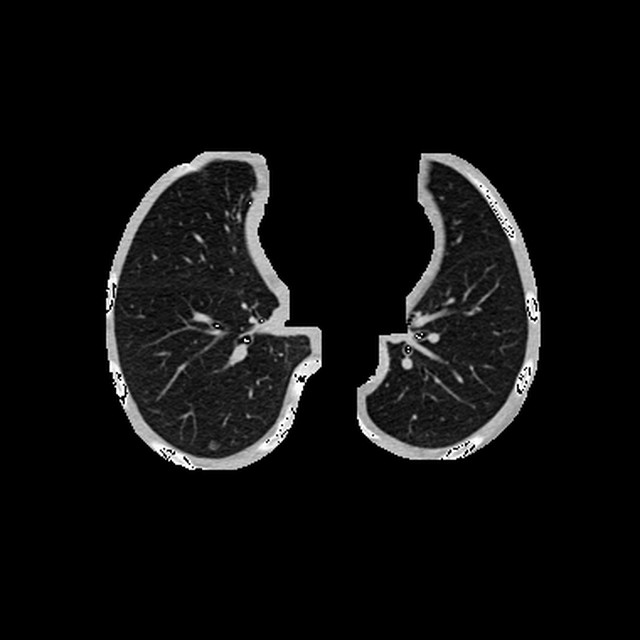PN: (209, 443, 216, 450)
